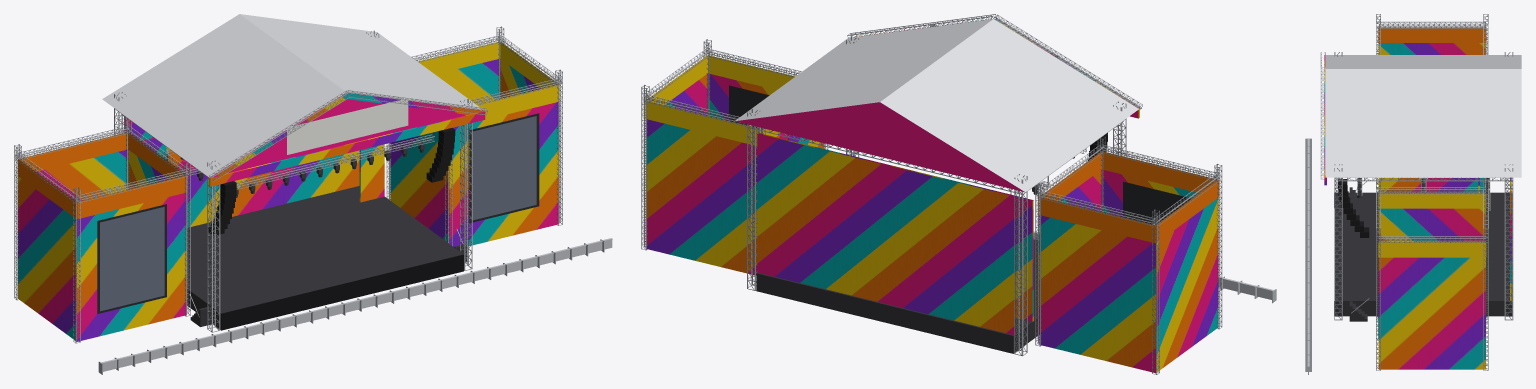
File: fest_main_stage.glb
3 views of the same model, side by side, from view 1: azimuth 30°, elevation 25°; view 2: azimuth 150°, elevation 25°; view 3: azimuth 270°, elevation 25° (orthographic). The views are drawn at different scales.
Parts seen in each view (by area): view 1: fest_main_stage; view 2: fest_main_stage; view 3: fest_main_stage.
Boxes of the visible parts, bbox=[...] form: fest_main_stage: bbox=[14, 14, 612, 374]; fest_main_stage: bbox=[641, 14, 1276, 374]; fest_main_stage: bbox=[1305, 14, 1521, 374].
Size of the model in its own units: 63.24 by 25.28 by 25.4.
5 materials, 3 textured.
